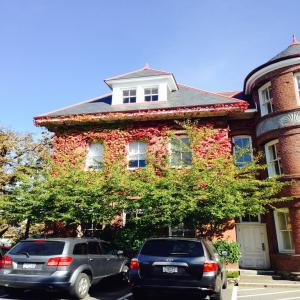Vehicle-registration-plate: (163, 267, 179, 276)
